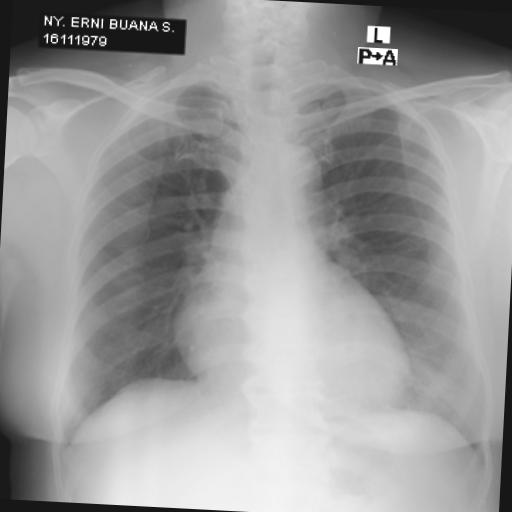kardiomegali: (44, 36, 512, 485)
